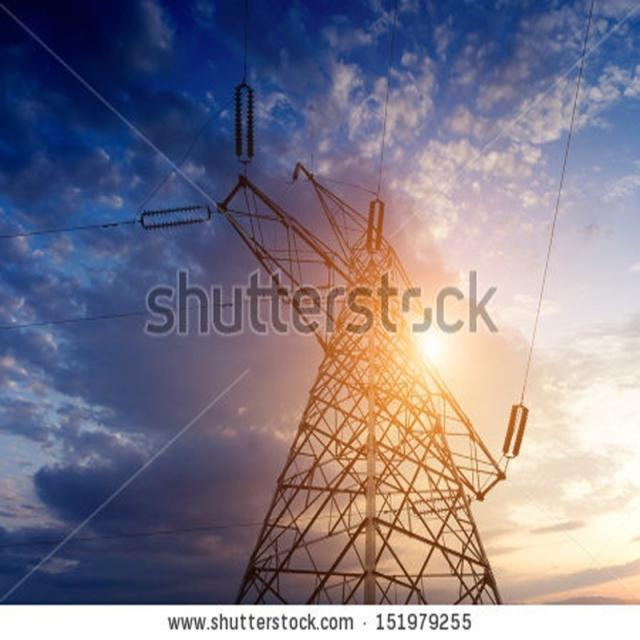non-critical vegetation: (153, 100, 544, 594)
